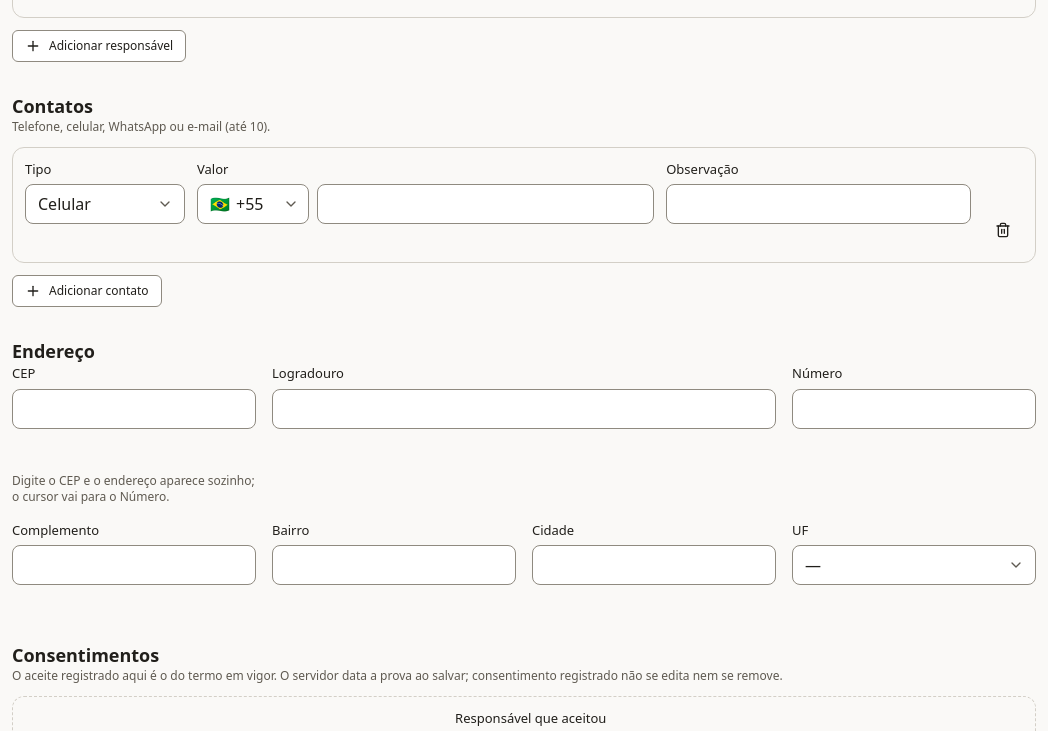
it: O CEP preenche o endereço — recepção › deve avisar que está buscando enquanto a consulta não volta
(page scrolled)
Step 1. Type "88501050" into the field labelled "CEP" → (134,408), box 12,388 -> 256,428
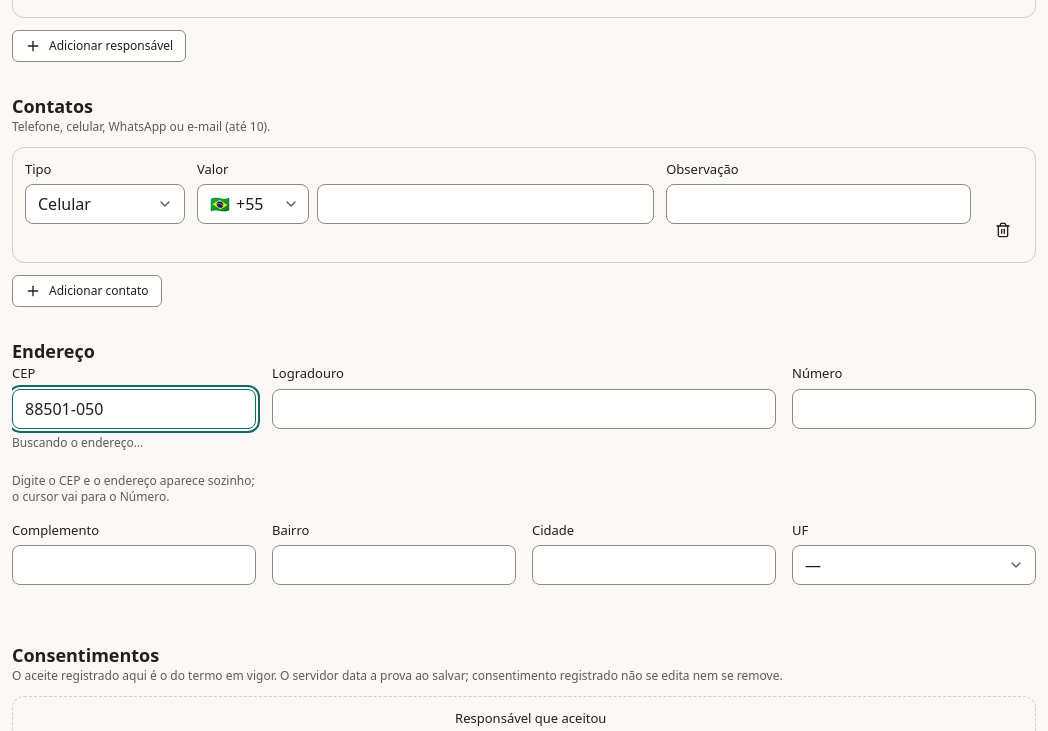
Now the text "Buscando o endereço…" is shown, box 12,434 -> 143,450
